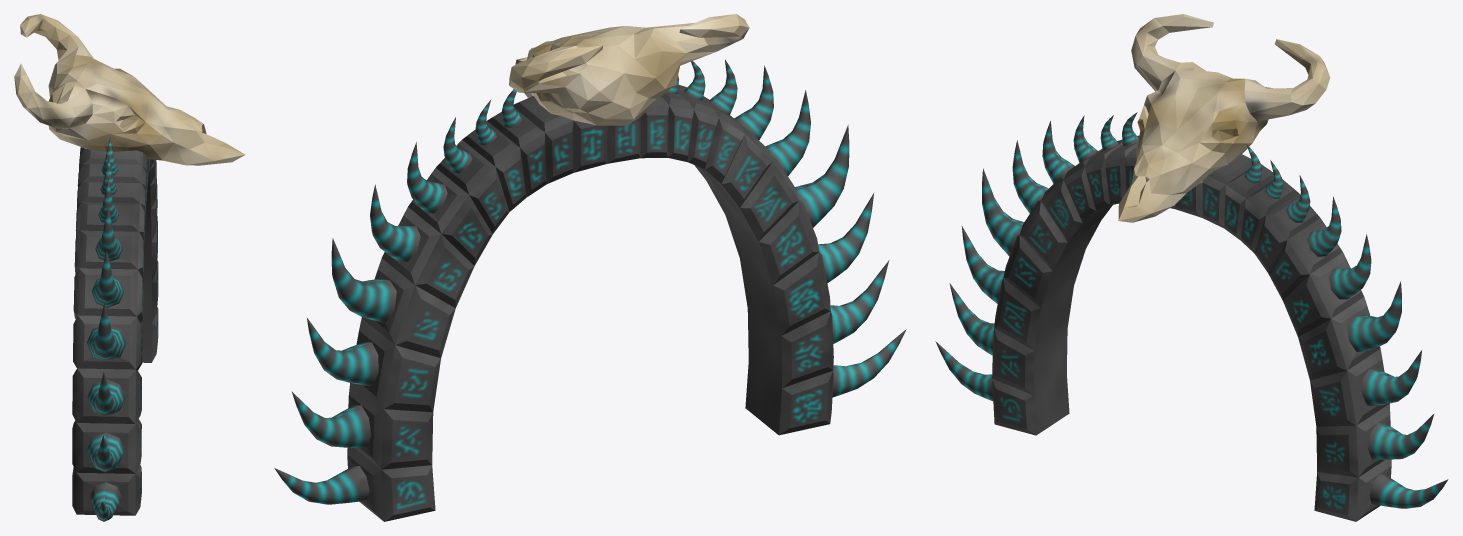
File: LV3Gate.fbx
The picture shows the model from 3 angles, left to right: view 1: azimuth 30°, elevation 25°; view 2: azimuth 150°, elevation 25°; view 3: azimuth 270°, elevation 25°; orthographic projection. The views are drawn at different scales.
Parts seen in each view (by area): view 1: polySurface135; view 2: polySurface135; view 3: polySurface135.
Boxes of the visible parts, <box> form: polySurface135: <box>14,14,245,521</box>; polySurface135: <box>274,14,906,521</box>; polySurface135: <box>935,14,1448,521</box>.
Size of the model in its own units: 24.13 by 32.42 by 37.85.
